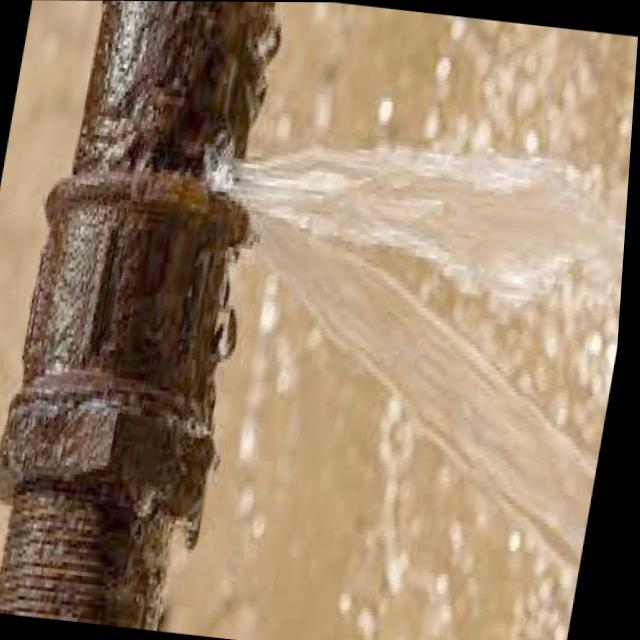leak: (208, 138, 626, 640)
